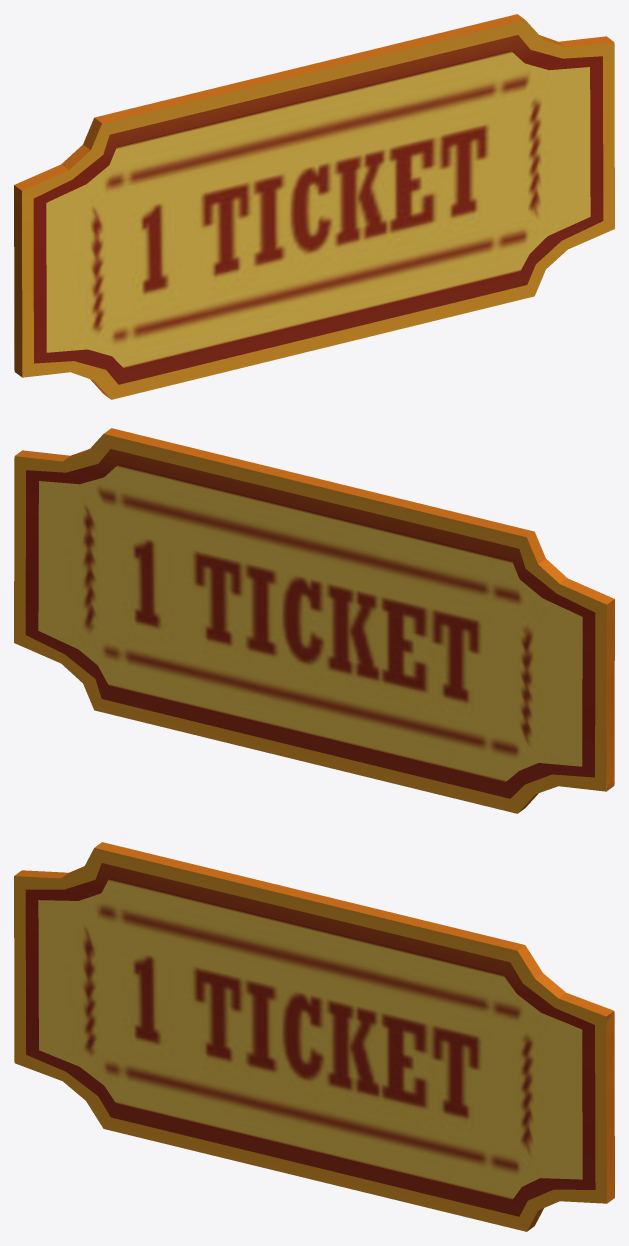
The model's file is ticket1.glb.
3 renders of one model, top to bottom at view 1: azimuth 30°, elevation 25°; view 2: azimuth 150°, elevation 25°; view 3: azimuth 330°, elevation 25°, orthographic.
Visible parts, largest first — view 1: Object_2; view 2: Object_2; view 3: Object_2.
Boxes of the visible parts, x1,y1,x2,y2 form: Object_2: (14, 14, 614, 399); Object_2: (14, 428, 614, 813); Object_2: (14, 842, 614, 1231).
Bounding box in the file's own units: 0.467 × 0.21 × 0.0108.
Materials: 1 (1 with a texture image).
